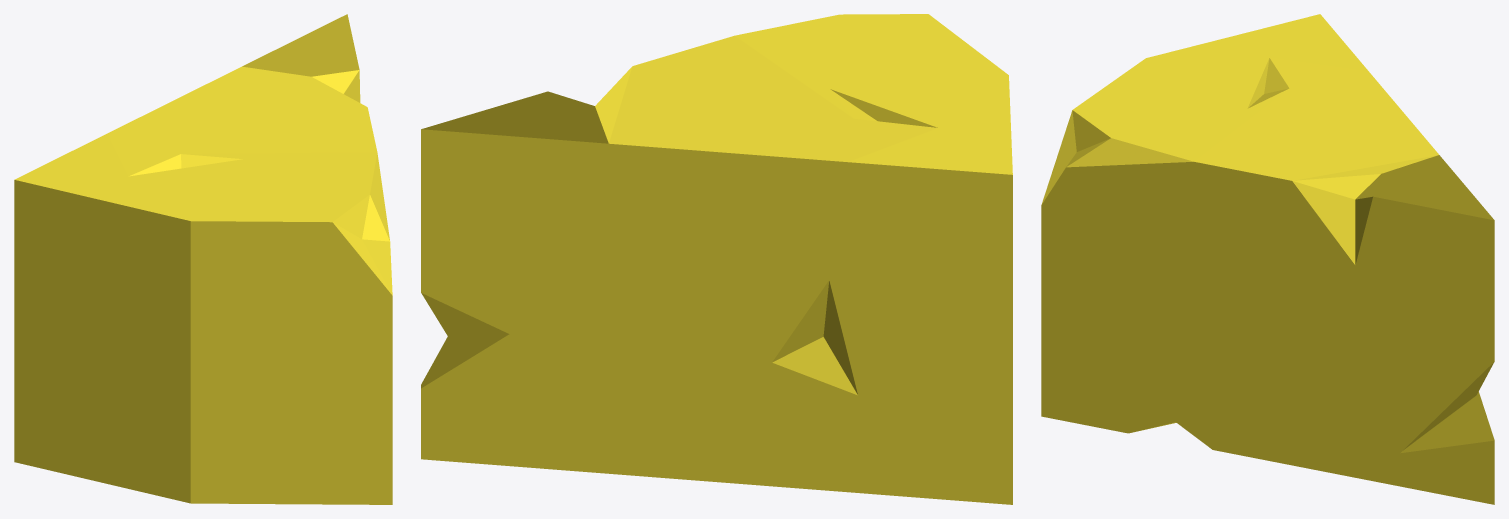
The model's file is Cheese Triangle.glb.
3 renders of one model, left to right at view 1: azimuth 30°, elevation 25°; view 2: azimuth 150°, elevation 25°; view 3: azimuth 270°, elevation 25°, orthographic. The views are drawn at different scales.
Parts seen in each view (by area): view 1: Node; view 2: Node; view 3: Node.
Part boxes in pixels (x1,y1,x2,y2): Node: [14, 14, 392, 504]; Node: [421, 14, 1012, 504]; Node: [1041, 14, 1494, 504].
Size of the model in its own units: 0.14 by 0.0903 by 0.13.
